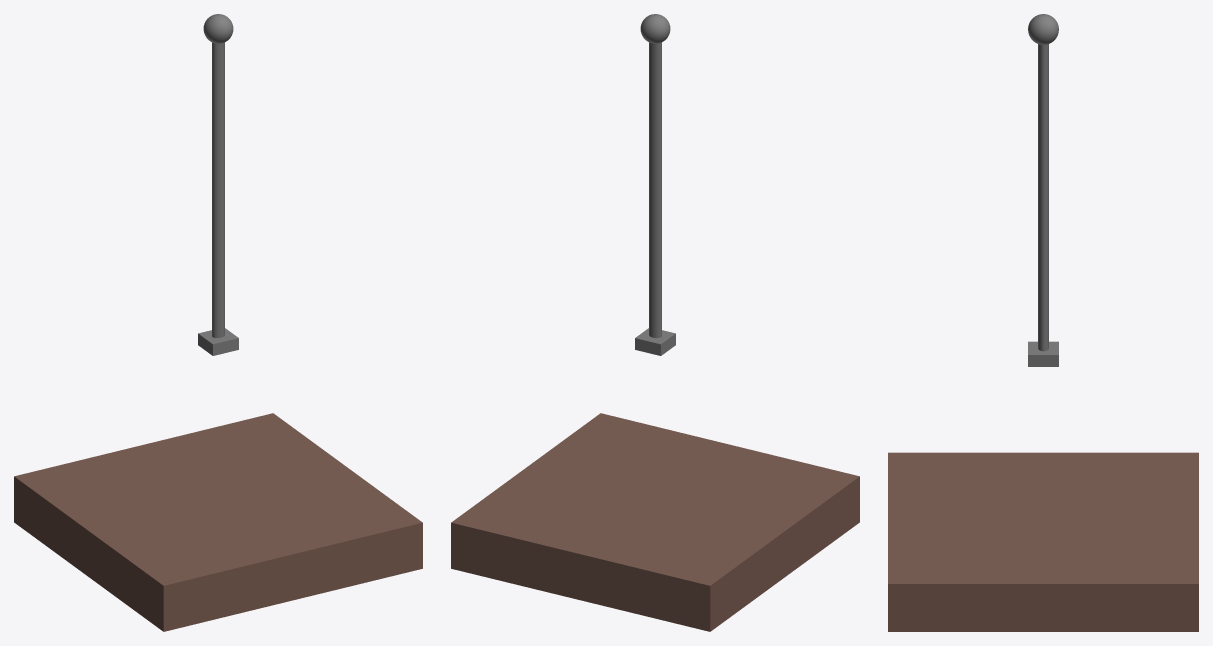
The model's file is GameLogic.fbx.
3 views of the same model, side by side, from view 1: azimuth 30°, elevation 25°; view 2: azimuth 150°, elevation 25°; view 3: azimuth 270°, elevation 25° (orthographic). The views are drawn at different scales.
Visible parts, largest first — view 1: Platform, Handle, Magnet, Pendulum; view 2: Platform, Handle, Magnet, Pendulum; view 3: Platform, Handle, Pendulum, Magnet.
Boxes of the visible parts, x1,y1,x2,y2 form: Platform: [14, 413, 422, 631]; Handle: [212, 42, 224, 337]; Magnet: [198, 328, 238, 355]; Pendulum: [203, 14, 233, 43]; Platform: [451, 413, 859, 631]; Handle: [649, 42, 661, 337]; Magnet: [635, 328, 675, 355]; Pendulum: [640, 14, 670, 43]; Platform: [888, 452, 1198, 631]; Handle: [1038, 44, 1048, 351]; Pendulum: [1028, 14, 1058, 44]; Magnet: [1028, 341, 1058, 366].
Bounding box in the file's own units: 1000 × 1955 × 1000.
